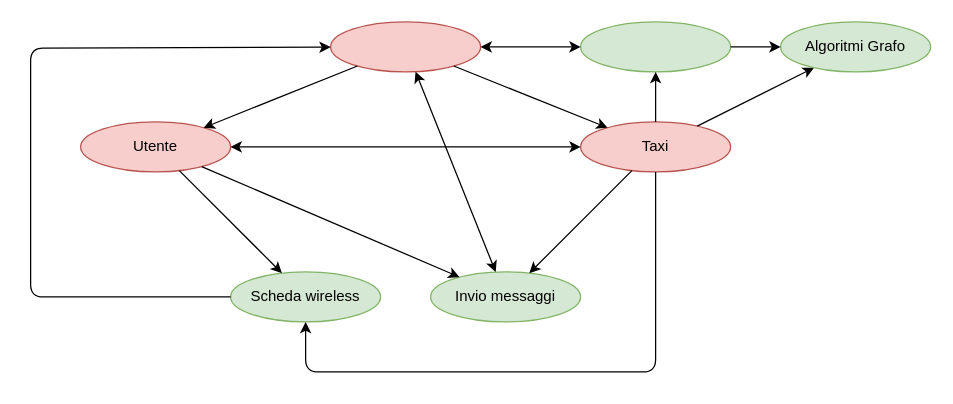
The diagram is 953 pixels wide and 404 high, and some of its shapes have lost their labels. The shapes that lost their labels are listed below. From the top down, each one's box as (x1, y1, x2, y2) in pixels, then its label:
(329, 21, 481, 72): Ambiente
(579, 21, 731, 72): Mappa Città
